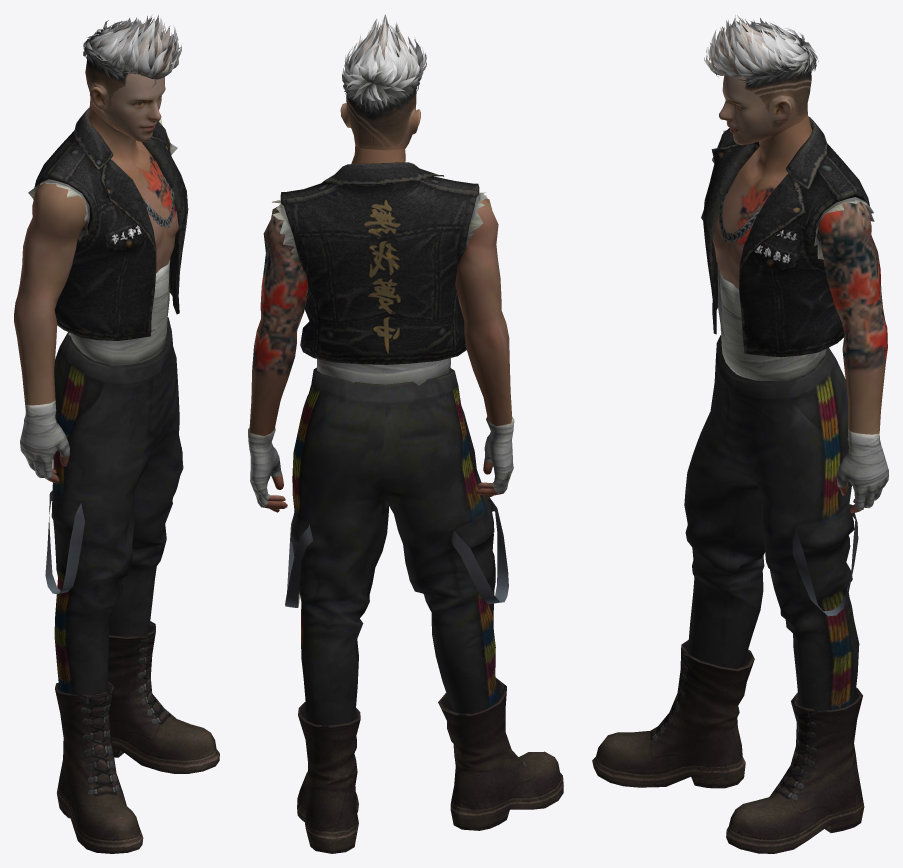
File: free_fire_cool_bundle.glb
The picture shows the model from 3 angles, left to right: view 1: azimuth 30°, elevation 25°; view 2: azimuth 150°, elevation 25°; view 3: azimuth 270°, elevation 25°; orthographic projection. The views are drawn at different scales.
Visible parts, largest first — view 1: Mesh_0015.rip, Mesh_0017.rip, Mesh_0012.rip, Mesh_0013.rip, Mesh_0029.rip; view 2: Mesh_0015.rip, Mesh_0017.rip, Mesh_0013.rip, Mesh_0012.rip, Mesh_0029.rip; view 3: Mesh_0015.rip, Mesh_0017.rip, Mesh_0012.rip, Mesh_0013.rip, Mesh_0029.rip.
Part boxes in pixels (x1,y1,x2,y2): Mesh_0015.rip: [45, 317, 183, 695]; Mesh_0017.rip: [20, 108, 188, 479]; Mesh_0012.rip: [55, 621, 219, 853]; Mesh_0013.rip: [14, 46, 178, 483]; Mesh_0029.rip: [83, 15, 182, 87]; Mesh_0015.rip: [285, 367, 508, 725]; Mesh_0017.rip: [248, 162, 514, 507]; Mesh_0013.rip: [249, 87, 512, 512]; Mesh_0012.rip: [297, 678, 563, 853]; Mesh_0029.rip: [342, 14, 426, 113]; Mesh_0015.rip: [684, 335, 859, 710]; Mesh_0017.rip: [701, 116, 888, 510]; Mesh_0012.rip: [592, 640, 864, 853]; Mesh_0013.rip: [713, 54, 887, 513]; Mesh_0029.rip: [704, 15, 818, 88].
Bounding box in the file's own units: 37.56 × 140 × 46.68.
Materials: 5 (5 with a texture image).
